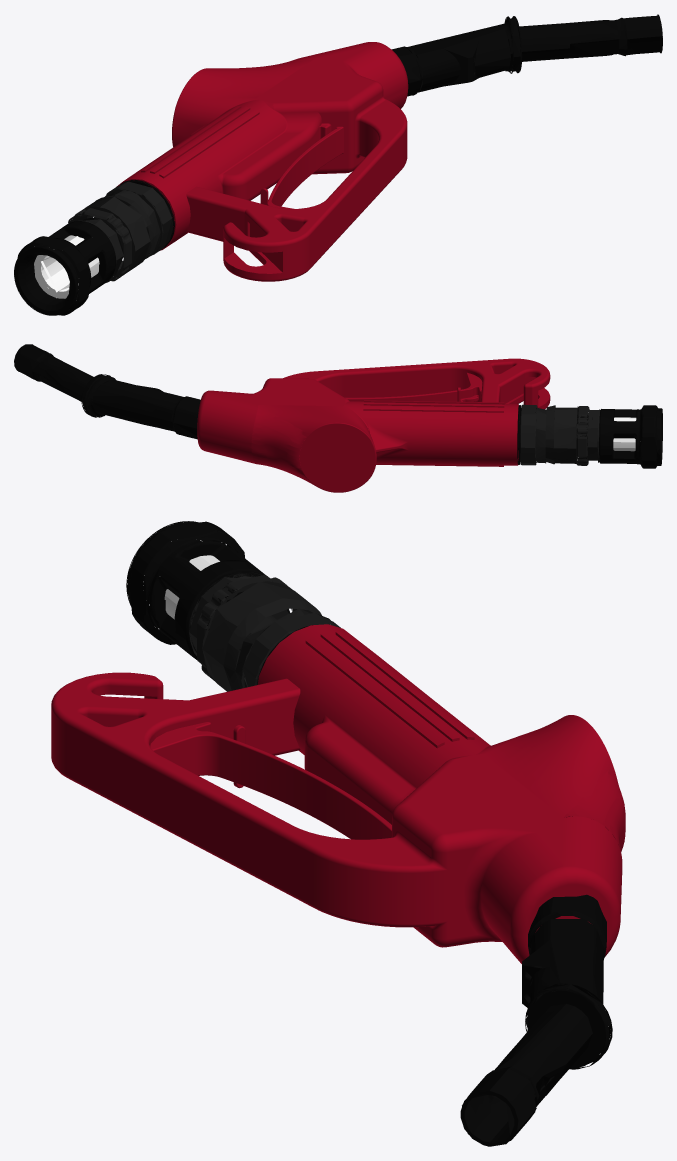
Rendered from jiayouqiang(1).fbx.
3 views of the same model, one above another, from view 1: azimuth 30°, elevation 25°; view 2: azimuth 150°, elevation 25°; view 3: azimuth 270°, elevation 25° (orthographic). The views are drawn at different scales.
Visible parts, largest first — view 1: 1016, 1014, 1010, 1012, 1007, 1008; view 2: 1016, 1014, 1012, 1010, 1015, 1007; view 3: 1016, 1014, 1012, 1010, 1015.
Part boxes in pixels (x1=…): 1016: x1=116, y1=42, x2=408, y2=281; 1014: x1=391, y1=14, x2=662, y2=96; 1010: x1=14, y1=218, x2=123, y2=315; 1012: x1=68, y1=181, x2=172, y2=282; 1007: x1=39, y1=235, x2=99, y2=293; 1008: x1=34, y1=249, x2=78, y2=298; 1016: x1=197, y1=358, x2=550, y2=492; 1014: x1=14, y1=344, x2=200, y2=439; 1012: x1=520, y1=404, x2=600, y2=465; 1010: x1=580, y1=405, x2=662, y2=468; 1015: x1=251, y1=405, x2=308, y2=480; 1007: x1=613, y1=417, x2=636, y2=451; 1016: x1=51, y1=624, x2=622, y2=963; 1014: x1=460, y1=894, x2=612, y2=1146; 1012: x1=189, y1=572, x2=340, y2=691; 1010: x1=126, y1=521, x2=289, y2=660; 1015: x1=564, y1=766, x2=625, y2=852.
Bounding box in the file's own units: 120 × 13.93 × 51.84.
